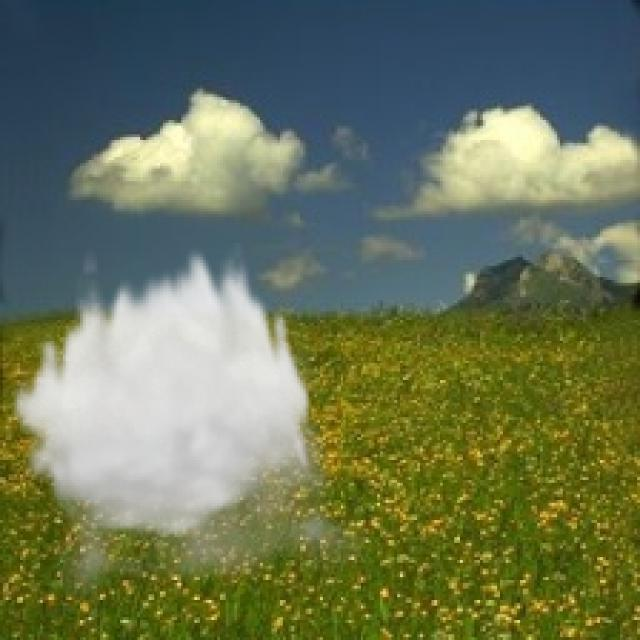smoke: (9, 243, 377, 608)
